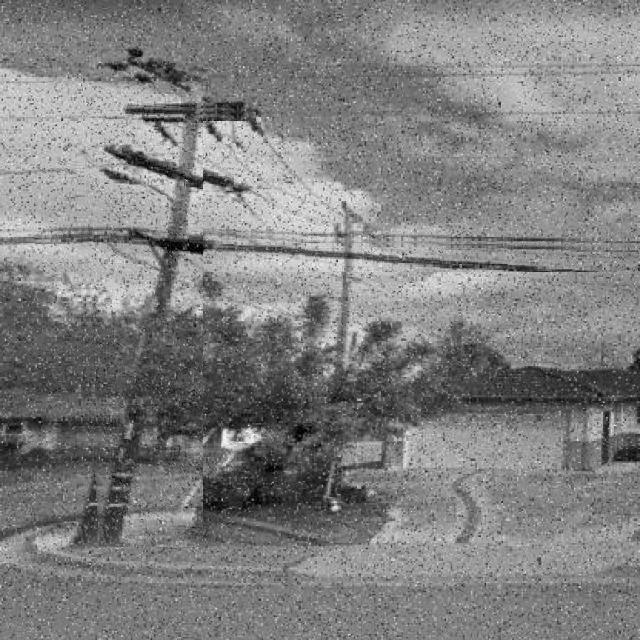crossarm: (104, 144, 235, 193), (132, 110, 255, 121)
pole: (94, 108, 203, 547)
wire: (0, 237, 638, 272), (176, 228, 376, 243), (1, 164, 134, 175)
